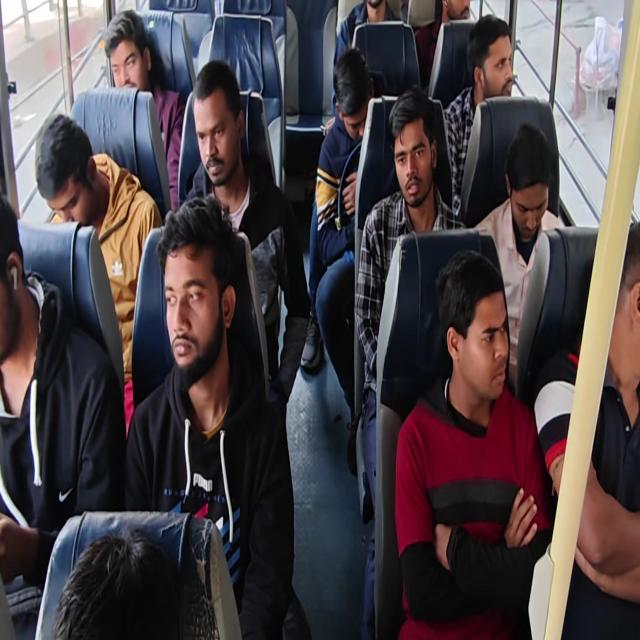person: (149, 204, 241, 380), (51, 524, 195, 633), (432, 244, 522, 401), (31, 100, 100, 246), (186, 55, 252, 196), (598, 214, 640, 400), (387, 84, 442, 207), (0, 170, 28, 396), (501, 116, 551, 228), (465, 20, 528, 104), (329, 47, 382, 146), (102, 0, 158, 85), (358, 0, 397, 19), (441, 0, 477, 18)
